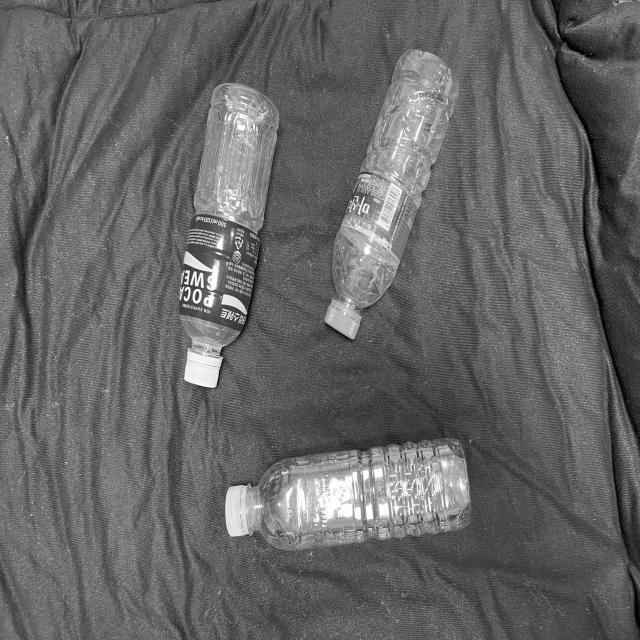plastic bottle: (307, 35, 471, 362), (158, 68, 293, 405), (216, 427, 485, 560)
